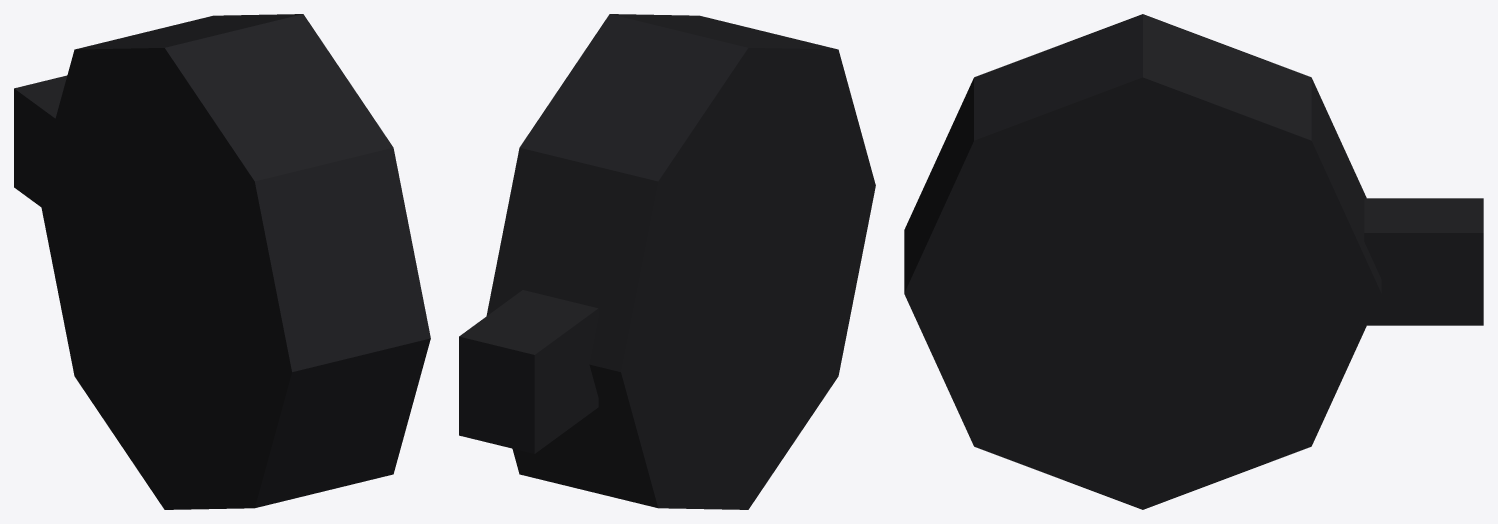
File: Glock_Drum50.fbx
3 views of the same model, side by side, from view 1: azimuth 30°, elevation 25°; view 2: azimuth 150°, elevation 25°; view 3: azimuth 270°, elevation 25° (orthographic). The views are drawn at different scales.
Parts seen in each view (by area): view 1: prims; view 2: prims; view 3: prims.
Boxes of the visible parts, x1,y1,x2,y2 form: prims: (14, 14, 430, 509); prims: (459, 14, 875, 509); prims: (904, 14, 1483, 509).
Bounding box in the file's own units: 0.0264 × 0.084 × 0.102.
